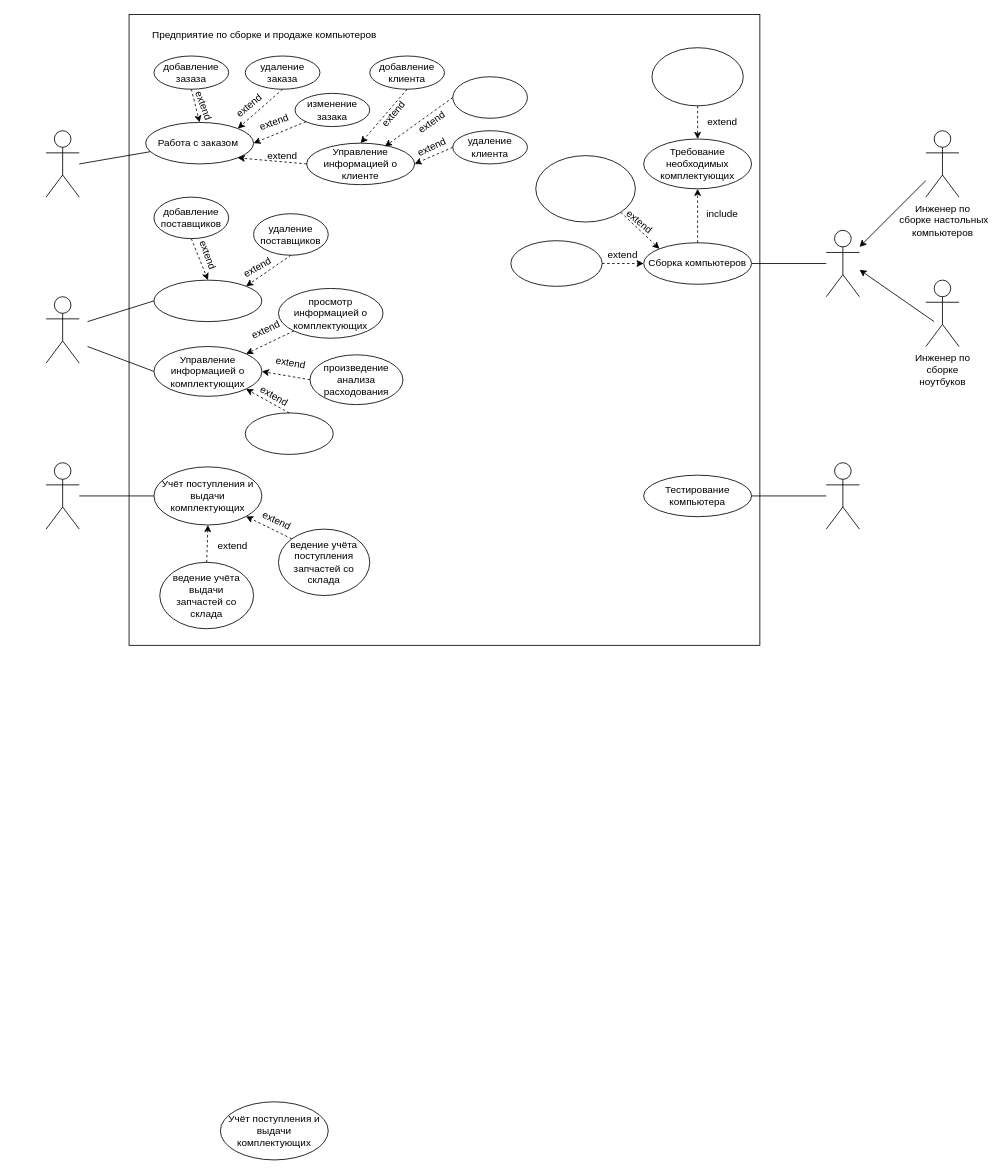
The diagram is 1003 pixels wide and 1174 high, and some of its shapes have lost their labels. Here are the shapes that lost their labels. From the top down, the box of each, then its label:
(651, 47, 743, 106): запрос необходимых запчастей со склада
(452, 76, 527, 118): просмотр информации о клиенте
(45, 130, 79, 197): Менеджер по работе с клиентами
(535, 155, 635, 222): просмотр нарядов на сборку компьютеров
(510, 240, 602, 286): отметка хода выполнения работы
(825, 229, 859, 297): Инженер по сборке
(153, 279, 262, 322): Управление информацией о поставщиках
(45, 296, 79, 363): Менеджер по снабжению
(244, 412, 333, 454): осуществление заказов
(45, 462, 79, 529): Завскладом
(825, 462, 859, 529): Инженер по тестированию
